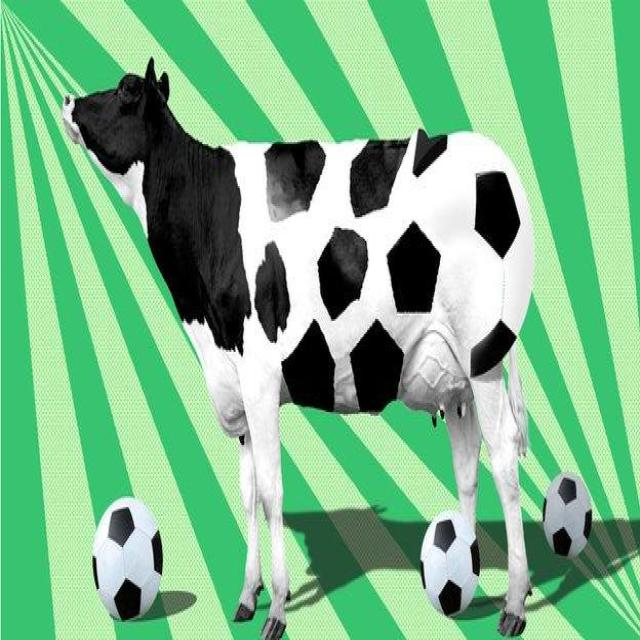ball: (88, 489, 167, 627), (419, 507, 482, 622), (541, 466, 594, 565)
